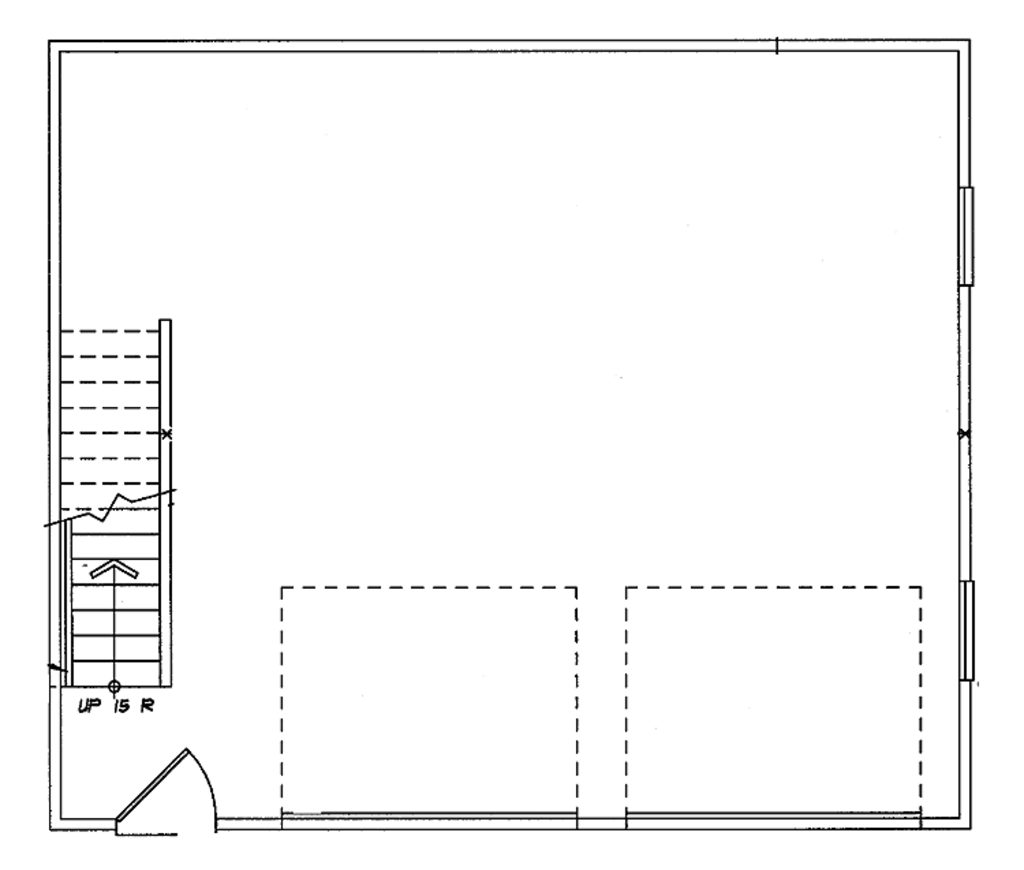door: (103, 740, 225, 840)
stairs: (56, 314, 184, 698)
window: (954, 581, 979, 677), (954, 187, 972, 286)
